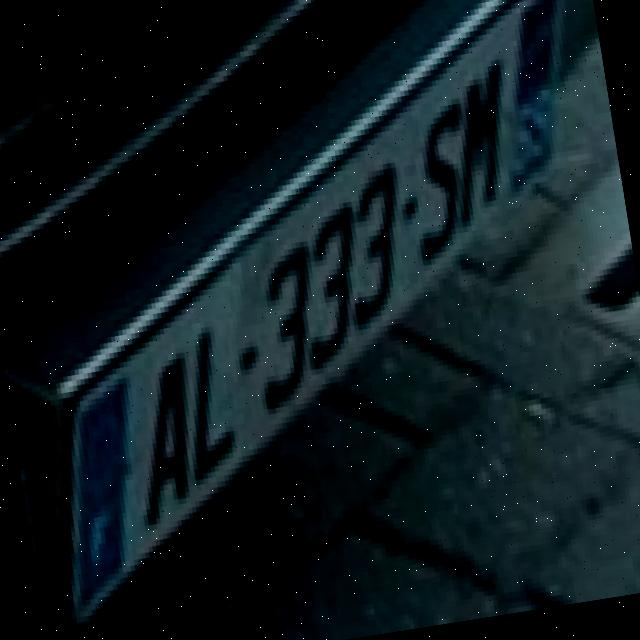EU: (64, 0, 567, 639)
France: (83, 372, 127, 605)
